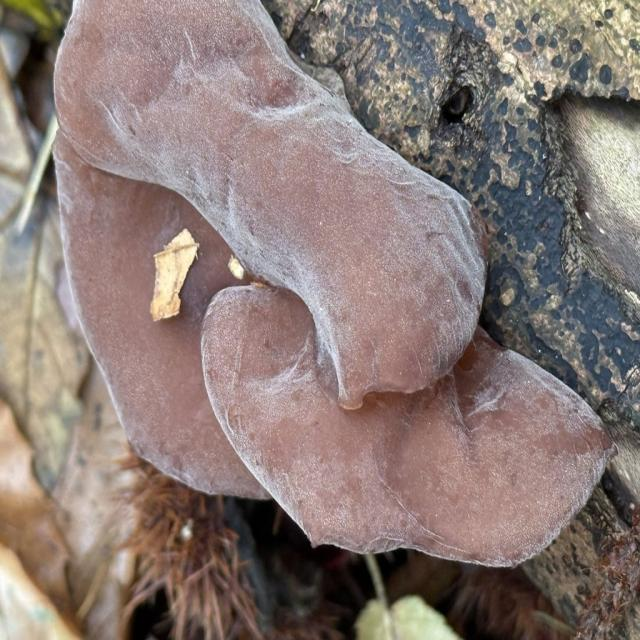Matang: (52, 0, 489, 417), (197, 276, 627, 572), (52, 124, 297, 512)
